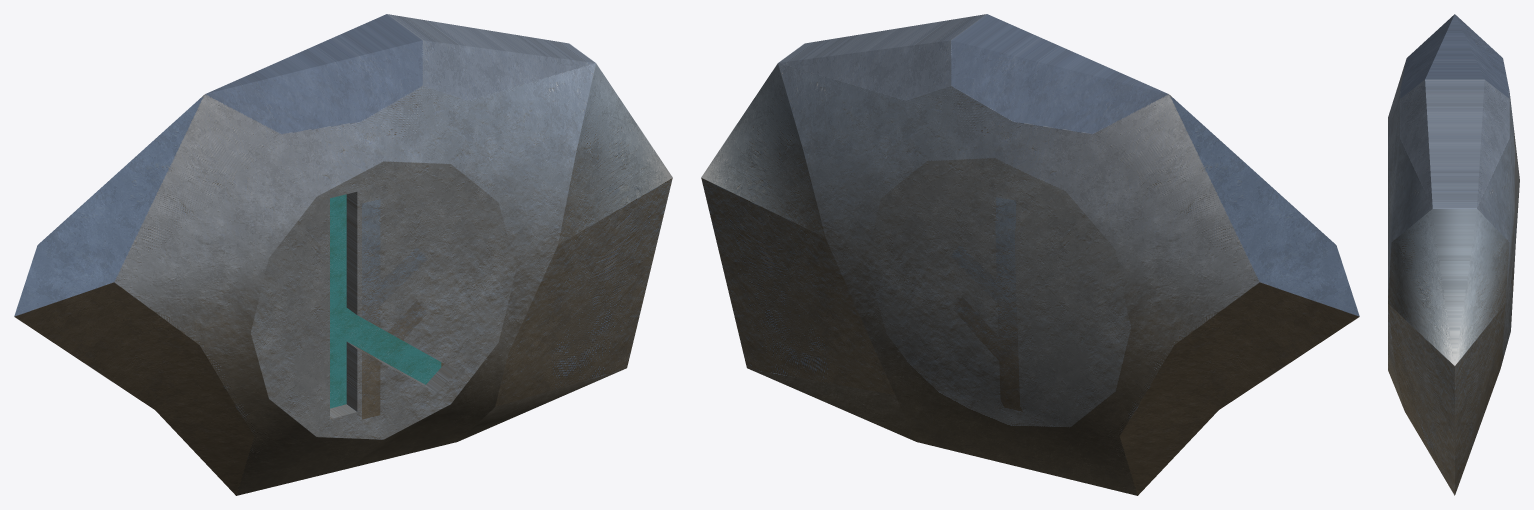
File: Charge_Michael.fbx
The picture shows the model from 3 angles, left to right: view 1: azimuth 30°, elevation 25°; view 2: azimuth 150°, elevation 25°; view 3: azimuth 270°, elevation 25°; orthographic projection. The views are drawn at different scales.
Visible parts, largest first — view 1: Char_Micael's Call; view 2: Char_Micael's Call; view 3: Char_Micael's Call.
Part boxes in pixels (box(x1,y1,x2,y2)): Char_Micael's Call: box(14, 14, 672, 495); Char_Micael's Call: box(701, 14, 1359, 495); Char_Micael's Call: box(1388, 14, 1519, 495).
Size of the model in its own units: 67.57 by 41.92 by 14.18.
1 material, 1 textured.
